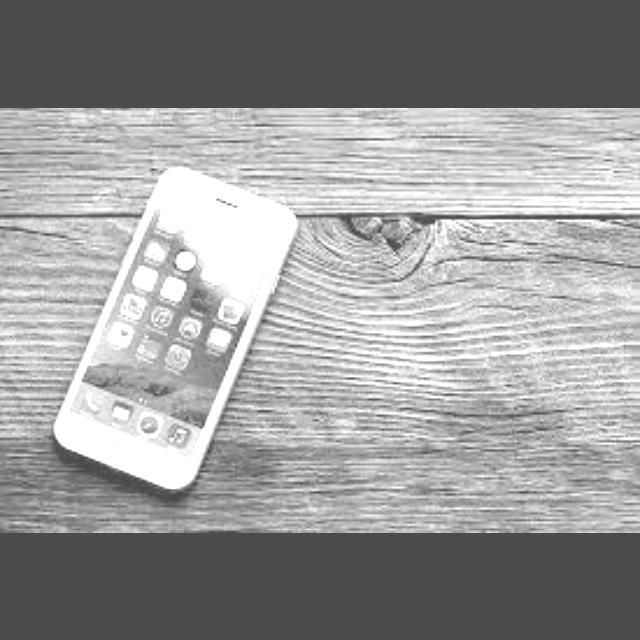fake: (64, 139, 298, 488)
